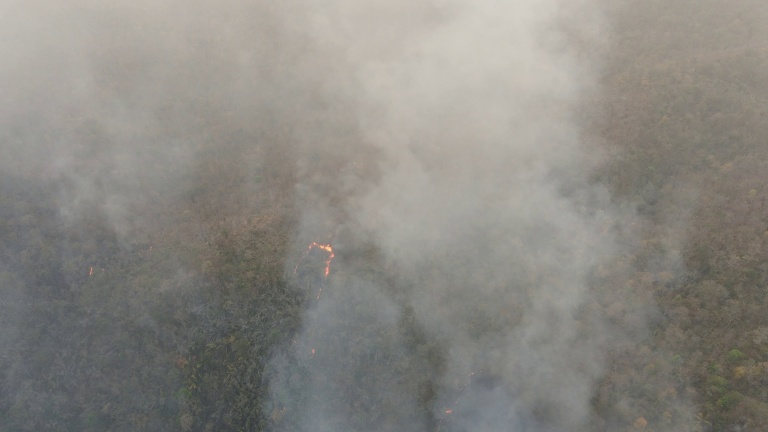fire: (295, 240, 340, 304), (438, 369, 480, 432), (86, 263, 96, 277), (306, 341, 315, 356)
smoke: (279, 1, 690, 427), (2, 1, 290, 172), (1, 172, 168, 432)
